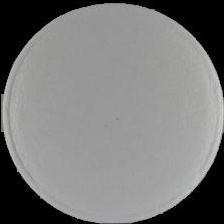76237-403: (0, 0, 224, 224)
